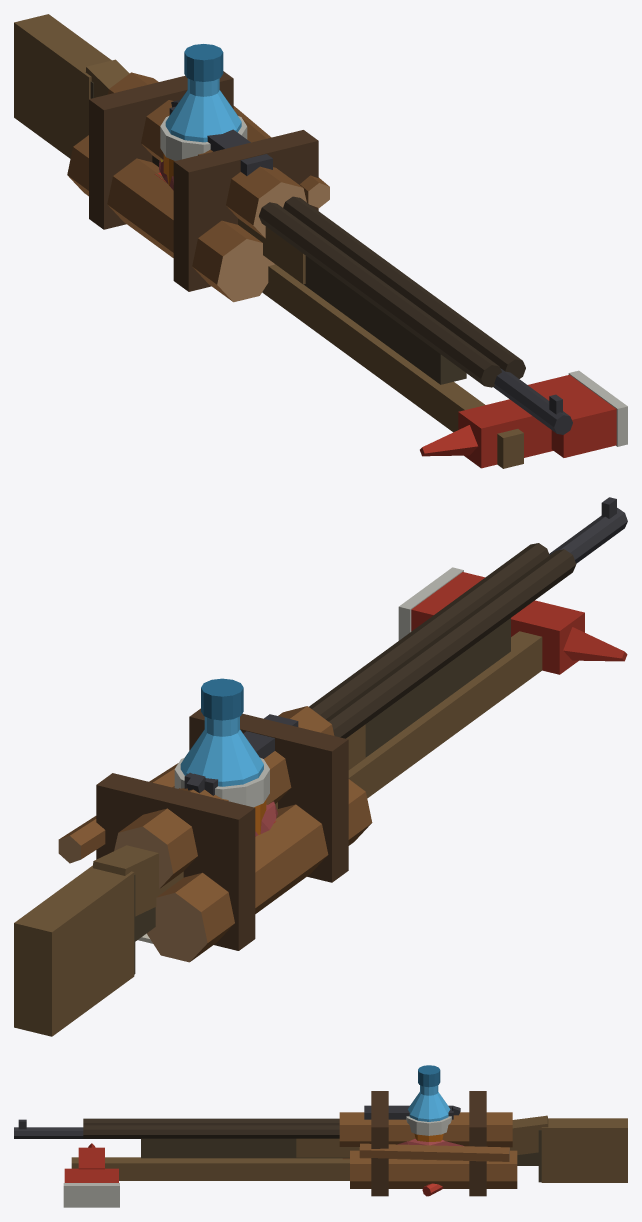
The model's file is items.glb.
The picture shows the model from 3 angles, top to bottom: view 1: azimuth 30°, elevation 25°; view 2: azimuth 150°, elevation 25°; view 3: azimuth 270°, elevation 25°; orthographic projection. The views are drawn at different scales.
Parts seen in each view (by area): view 1: campfire_kit, shotgun, axe, rifle, water_bottle, beans, pistol; view 2: campfire_kit, shotgun, axe, rifle, water_bottle, beans, pistol; view 3: shotgun, campfire_kit, axe, rifle, water_bottle, beans, pistol, raw_venison.
Part boxes in pixels (x1,y1,x2,y2): campfire_kit: (67, 71, 329, 302); shotgun: (14, 14, 525, 387); axe: (262, 264, 627, 468); rifle: (90, 81, 572, 434); water_bottle: (165, 44, 241, 142); beans: (160, 116, 247, 185); pistol: (169, 99, 272, 175); campfire_kit: (58, 706, 372, 962); shotgun: (14, 543, 576, 1036); axe: (348, 567, 627, 798); rifle: (134, 497, 627, 974); water_bottle: (180, 678, 263, 786); beans: (174, 757, 269, 834); pistol: (184, 714, 298, 795); shotgun: (83, 1115, 627, 1182); campfire_kit: (339, 1091, 517, 1196); axe: (63, 1143, 349, 1207); rifle: (14, 1119, 541, 1182); water_bottle: (408, 1065, 450, 1121); beans: (406, 1116, 451, 1141); pistol: (364, 1105, 460, 1119); raw_venison: (397, 1138, 463, 1146).
Bounding box in the file's own units: 0.2095 × 0.207 × 1.07.
